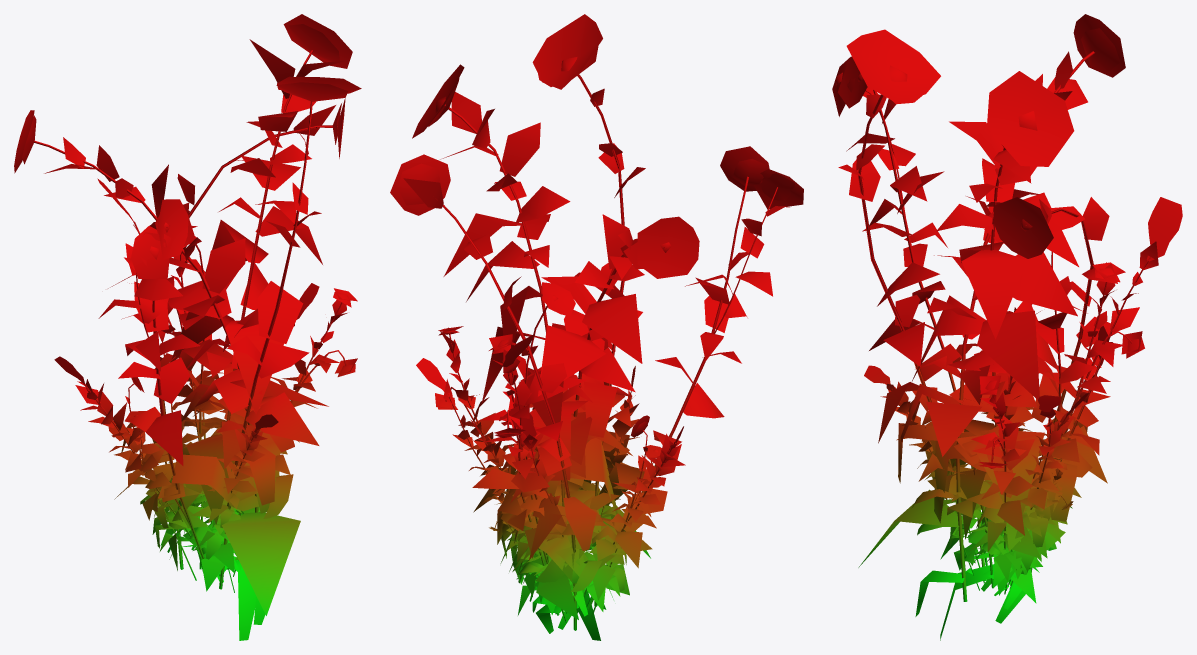
Rendered from Crownbeard_LOD2_Var2_tefoajkr.fbx.
3 views of the same model, side by side, from view 1: azimuth 30°, elevation 25°; view 2: azimuth 150°, elevation 25°; view 3: azimuth 270°, elevation 25° (orthographic). The views are drawn at different scales.
Parts seen in each view (by area): view 1: _7fe8_Var2_LOD2; view 2: _7fe8_Var2_LOD2; view 3: _7fe8_Var2_LOD2.
Part boxes in pixels (x1,y1,x2,y2): _7fe8_Var2_LOD2: (14, 14, 361, 640); _7fe8_Var2_LOD2: (390, 14, 803, 640); _7fe8_Var2_LOD2: (832, 14, 1182, 640).
Bounding box in the file's own units: 47.72 × 83.14 × 42.4.
